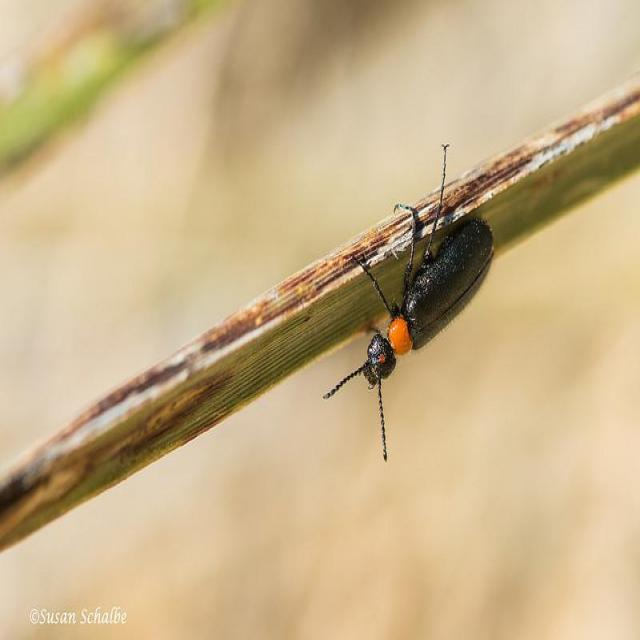BlisterBeetle-Adult-: (318, 138, 500, 470)
